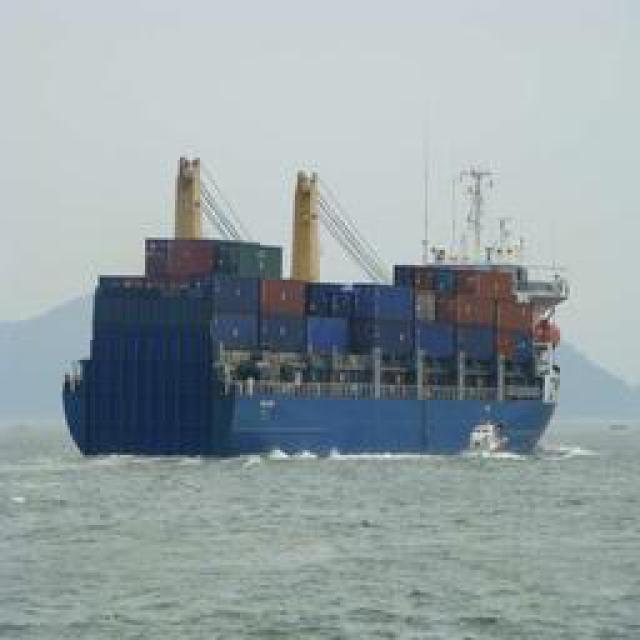Ship: (50, 179, 571, 475)
